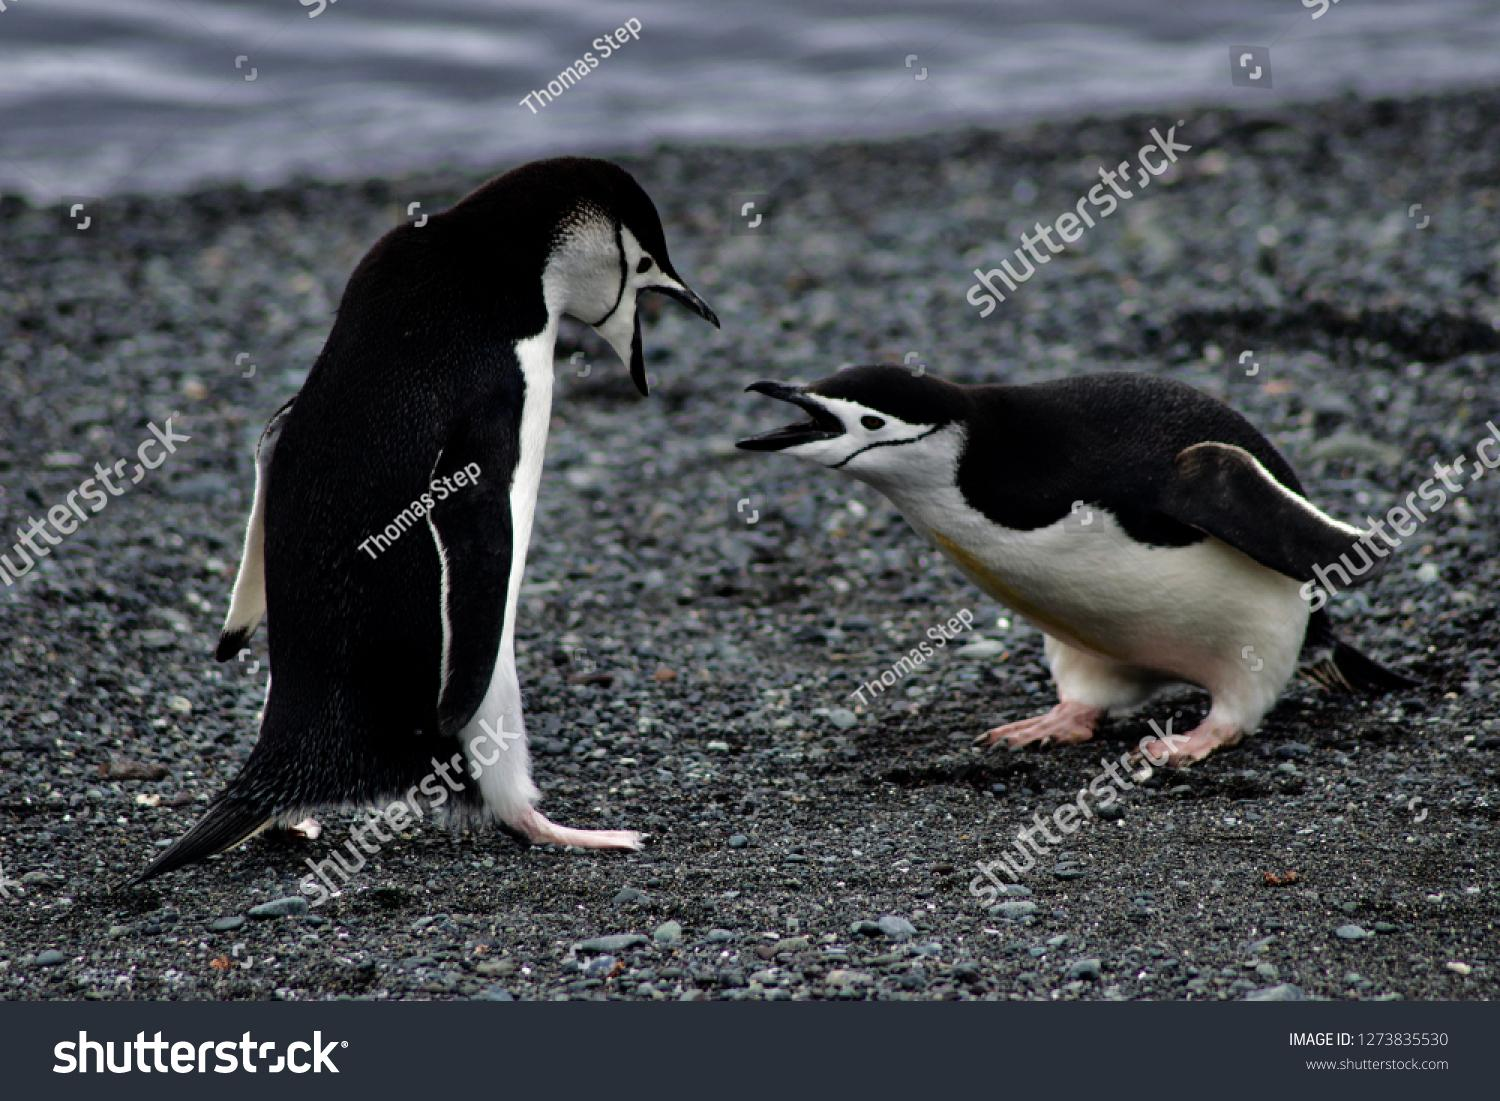chinstrap: (130, 123, 748, 895), (736, 340, 1446, 828)
